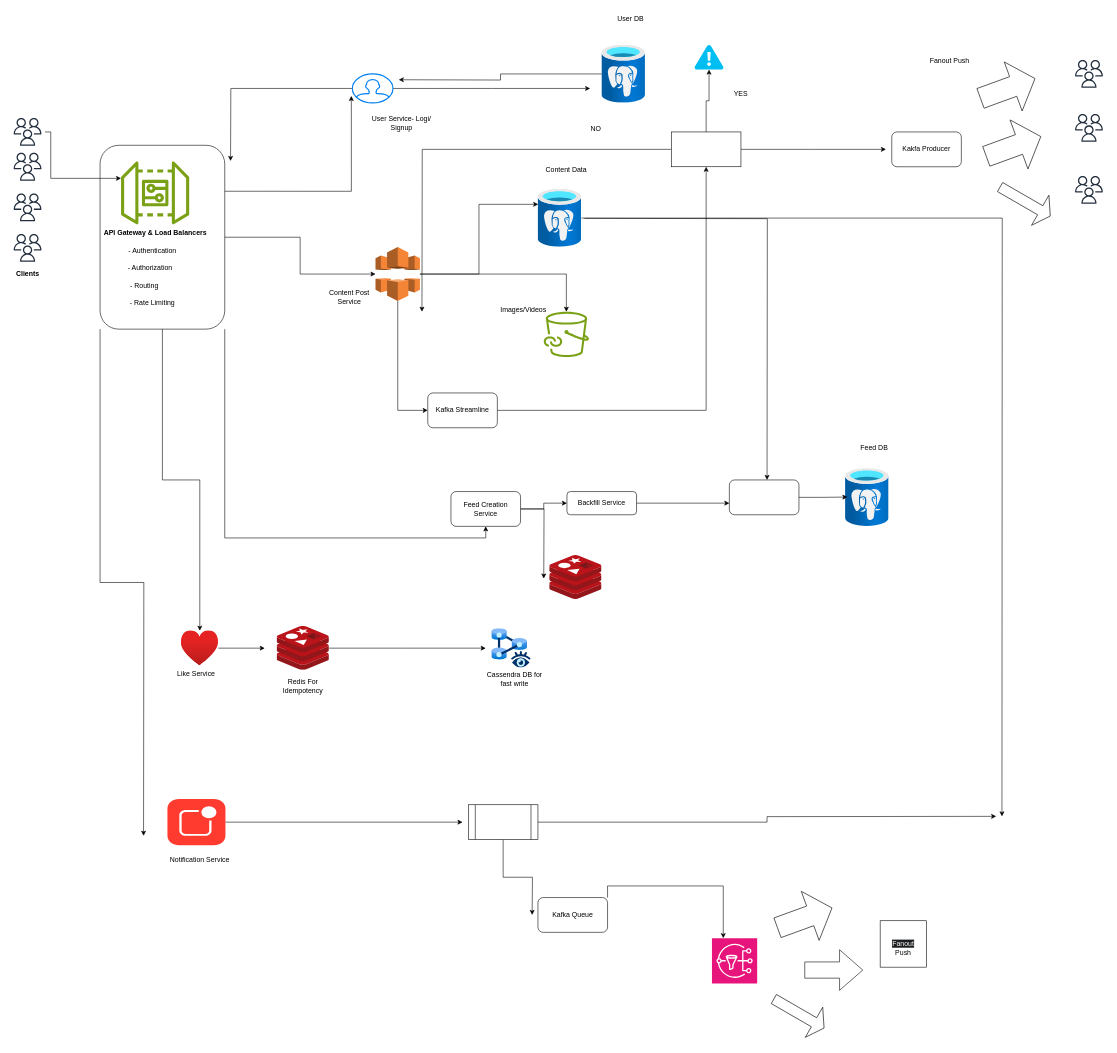
Some shapes in this 1117 by 1053 pixel diagram are drawn without their labels. The centre of each missing label's shape, as x and y in pixels:
"CDC Pipeline" belongs at point (503, 822).
"Contetn Regulation Service" belongs at point (706, 149).
"Kafka BG Job" belongs at point (764, 497).
